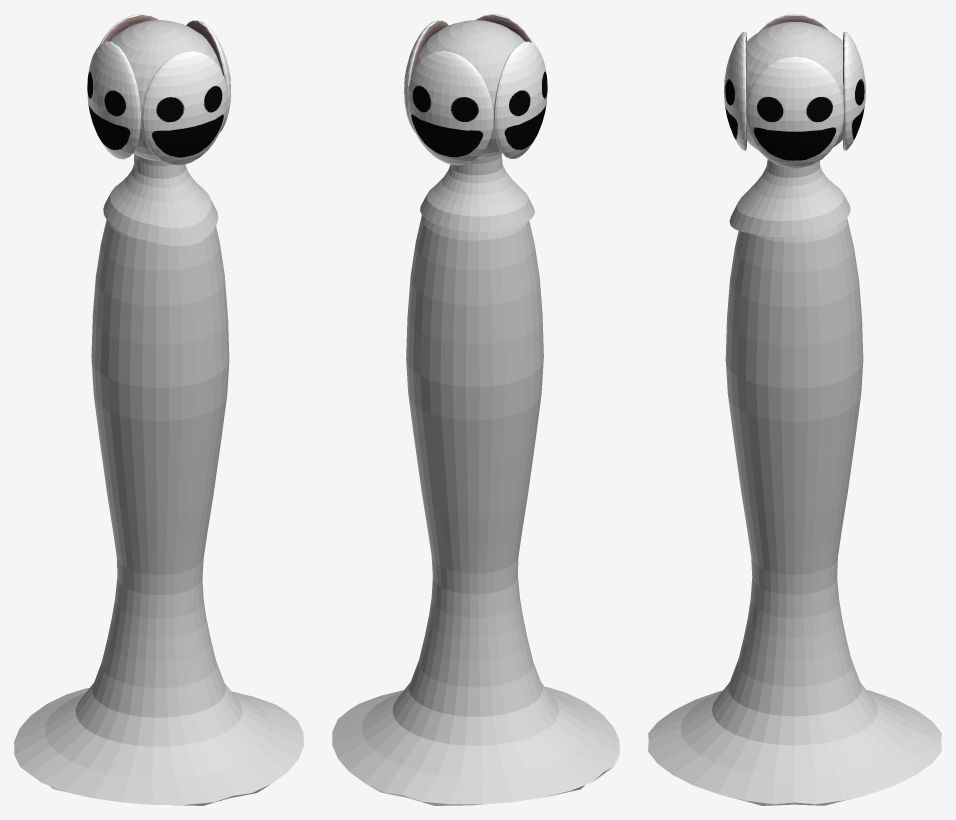
The model's file is monitor2.fbx.
3 views of the same model, side by side, from view 1: azimuth 30°, elevation 25°; view 2: azimuth 150°, elevation 25°; view 3: azimuth 270°, elevation 25° (orthographic).
Visible parts, largest first — view 1: Body, Sphere, Mask.002, Mask.001, Mask, Mask.003; view 2: Body, Sphere, Mask.003, Mask.001, Mask, Mask.002; view 3: Body, Sphere, Mask, Mask.002, Mask.003.
Part boxes in pixels (bbox=[...]): Body: bbox=[14, 220, 303, 805]; Sphere: bbox=[103, 20, 221, 246]; Mask.002: bbox=[141, 51, 227, 165]; Mask.001: bbox=[87, 41, 140, 159]; Mask: bbox=[186, 20, 230, 132]; Mask.003: bbox=[99, 14, 158, 45]; Body: bbox=[332, 215, 619, 805]; Sphere: bbox=[412, 20, 534, 232]; Mask.003: bbox=[407, 51, 493, 165]; Mask.001: bbox=[494, 41, 547, 158]; Mask: bbox=[404, 20, 448, 131]; Mask.002: bbox=[476, 14, 535, 45]; Body: bbox=[648, 217, 941, 805]; Sphere: bbox=[729, 21, 850, 237]; Mask: bbox=[745, 56, 844, 168]; Mask.002: bbox=[723, 31, 746, 150]; Mask.003: bbox=[843, 31, 865, 150].
Bounding box in the file's own units: 286 × 773 × 286.
Materials: 4 (4 with a texture image).
